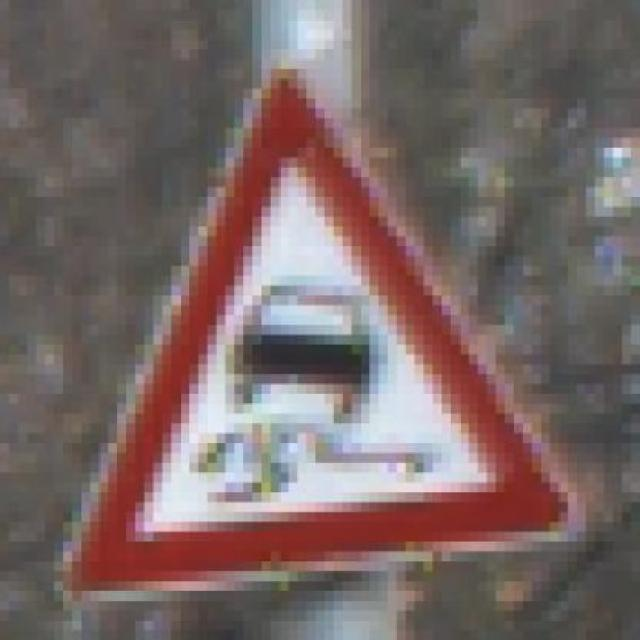Slippery Road Ahead: (35, 68, 568, 580)
